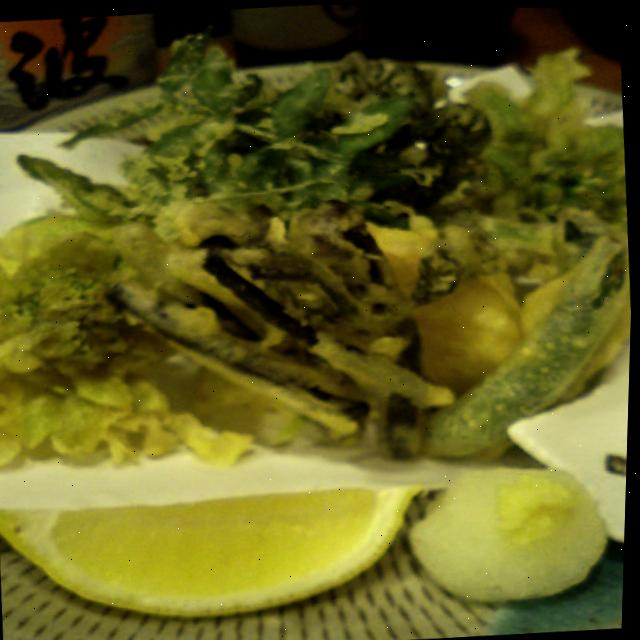蔬菜料理: (0, 0, 640, 476)
